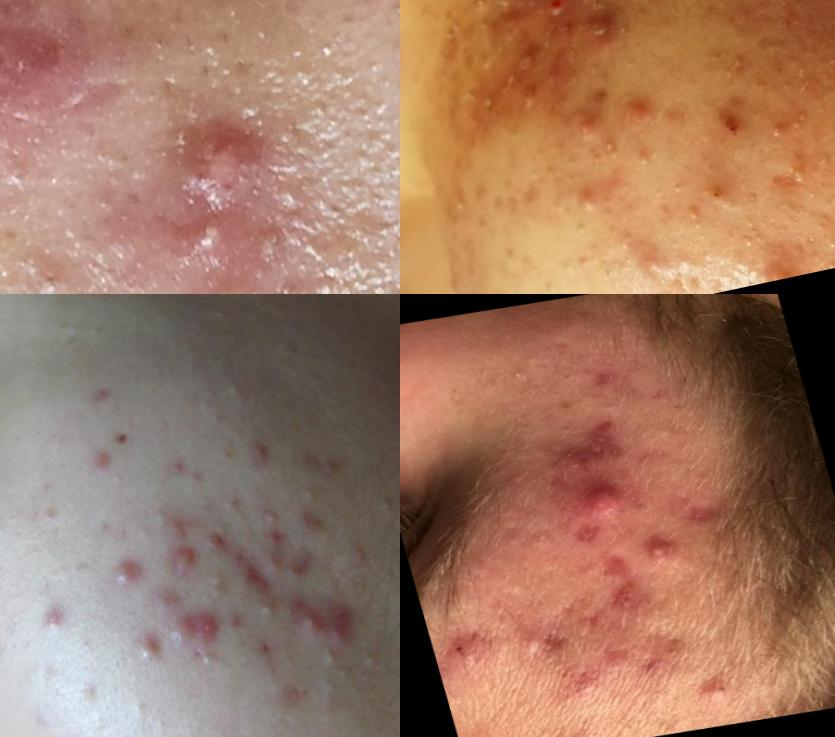acne_scars: (574, 539, 668, 622)
blackhead: (494, 528, 533, 552), (549, 395, 586, 417), (553, 365, 576, 389)
cystic: (569, 471, 636, 527)
papular: (1, 1, 107, 160), (156, 597, 233, 657), (14, 230, 75, 295), (97, 550, 155, 607), (436, 623, 495, 678), (628, 228, 682, 288), (290, 593, 340, 650), (161, 539, 216, 587), (556, 665, 617, 706), (235, 430, 284, 476), (32, 597, 82, 641), (322, 607, 362, 661), (636, 75, 674, 129), (198, 519, 241, 558), (699, 671, 748, 704), (126, 627, 159, 672), (165, 513, 203, 552), (85, 444, 125, 480), (585, 27, 629, 53), (286, 555, 320, 588), (257, 522, 290, 555)
purulent: (174, 200, 239, 275), (558, 94, 612, 146), (572, 172, 606, 218), (638, 536, 684, 568), (459, 721, 514, 737)
sebo-crystan-conglo: (158, 100, 285, 223), (540, 1, 578, 28)
whitehead: (241, 212, 306, 287), (237, 576, 285, 625), (508, 625, 560, 665), (486, 569, 547, 603), (760, 102, 801, 151), (478, 501, 533, 534), (197, 564, 238, 605), (674, 195, 715, 235), (450, 181, 488, 222), (340, 536, 377, 576), (595, 134, 630, 175), (192, 276, 263, 295), (217, 378, 255, 412), (534, 260, 570, 295), (253, 491, 283, 533), (203, 295, 239, 329), (736, 228, 773, 258), (357, 645, 389, 678), (376, 485, 401, 527), (76, 679, 108, 711), (314, 642, 346, 674), (573, 237, 601, 273), (177, 463, 210, 493), (474, 50, 500, 87), (221, 491, 251, 522), (196, 641, 222, 674), (290, 478, 317, 509), (147, 502, 175, 531), (504, 361, 535, 387), (101, 468, 129, 494), (132, 521, 158, 545), (127, 697, 152, 720), (77, 635, 100, 659)
